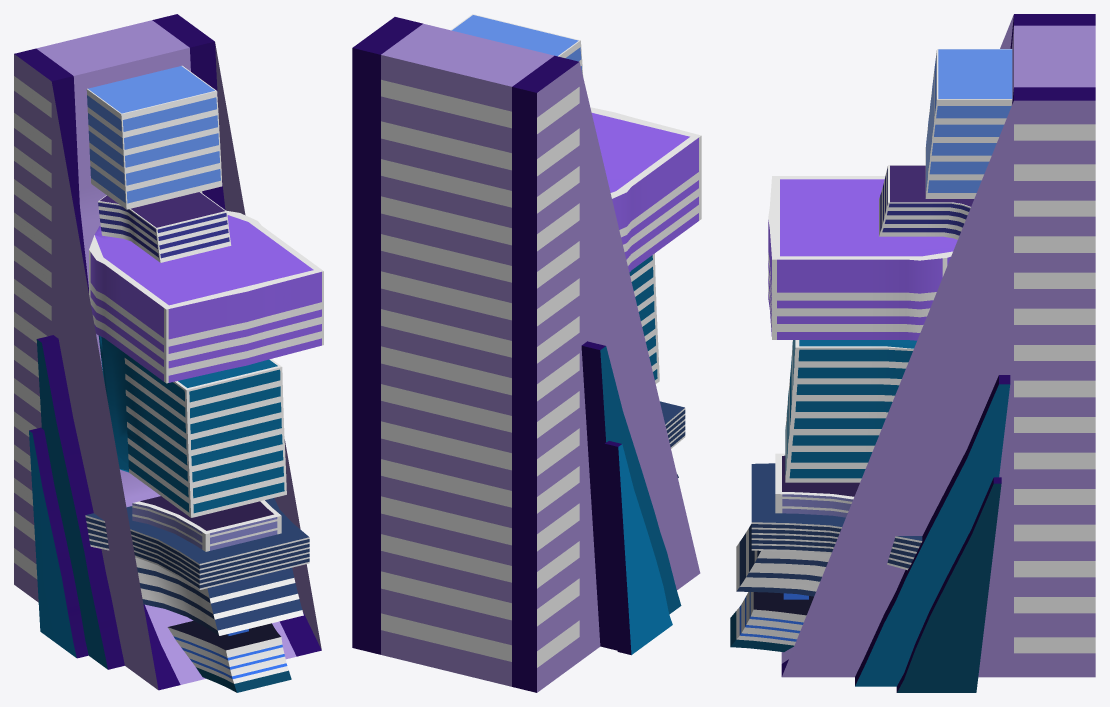
File: Bld_4.fbx
3 views of the same model, side by side, from view 1: azimuth 30°, elevation 25°; view 2: azimuth 150°, elevation 25°; view 3: azimuth 270°, elevation 25° (orthographic). The views are drawn at different scales.
Parts seen in each view (by area): view 1: Plane.001, Cube.050, Cube.049, Cube.052, Cube.047, Plane.004, Plane.005, Cube.051, Cube.046, Cube.048; view 2: Plane.001, Cube.050, Plane.004, Plane.005, Cube.052, Cube.049, Cube.047; view 3: Plane.001, Cube.050, Cube.049, Plane.002, Cube.052, Plane.003, Cube.047, Cube.051, Cube.046, Cube.048.
Boxes of the visible parts, left/top/right/bottom form: Plane.001: left=14, top=14, right=321, bottom=690; Cube.050: left=89, top=210, right=323, bottom=383; Cube.049: left=98, top=335, right=286, bottom=517; Cube.052: left=86, top=65, right=222, bottom=209; Cube.047: left=85, top=498, right=309, bottom=635; Plane.004: left=36, top=335, right=124, bottom=669; Plane.005: left=29, top=427, right=88, bottom=658; Cube.051: left=98, top=191, right=231, bottom=262; Cube.046: left=167, top=620, right=291, bottom=692; Cube.048: left=132, top=496, right=281, bottom=551; Plane.001: left=352, top=17, right=700, bottom=692; Cube.050: left=590, top=107, right=701, bottom=272; Plane.004: left=581, top=341, right=681, bottom=650; Plane.005: left=604, top=441, right=672, bottom=655; Cube.052: left=451, top=14, right=583, bottom=76; Cube.049: left=629, top=253, right=659, bottom=383; Cube.047: left=660, top=401, right=685, bottom=477; Plane.001: left=781, top=14, right=1095, bottom=677; Cube.050: left=768, top=176, right=957, bottom=340; Cube.049: left=785, top=340, right=916, bottom=482; Plane.002: left=855, top=375, right=1010, bottom=686; Cube.052: left=925, top=49, right=1012, bottom=198; Plane.003: left=896, top=477, right=1001, bottom=692; Cube.047: left=736, top=463, right=922, bottom=596; Cube.051: left=879, top=165, right=973, bottom=239; Cube.046: left=730, top=592, right=813, bottom=652; Cube.048: left=775, top=453, right=859, bottom=517.
Bounding box in the file's own units: 783 × 1785 × 1026.
